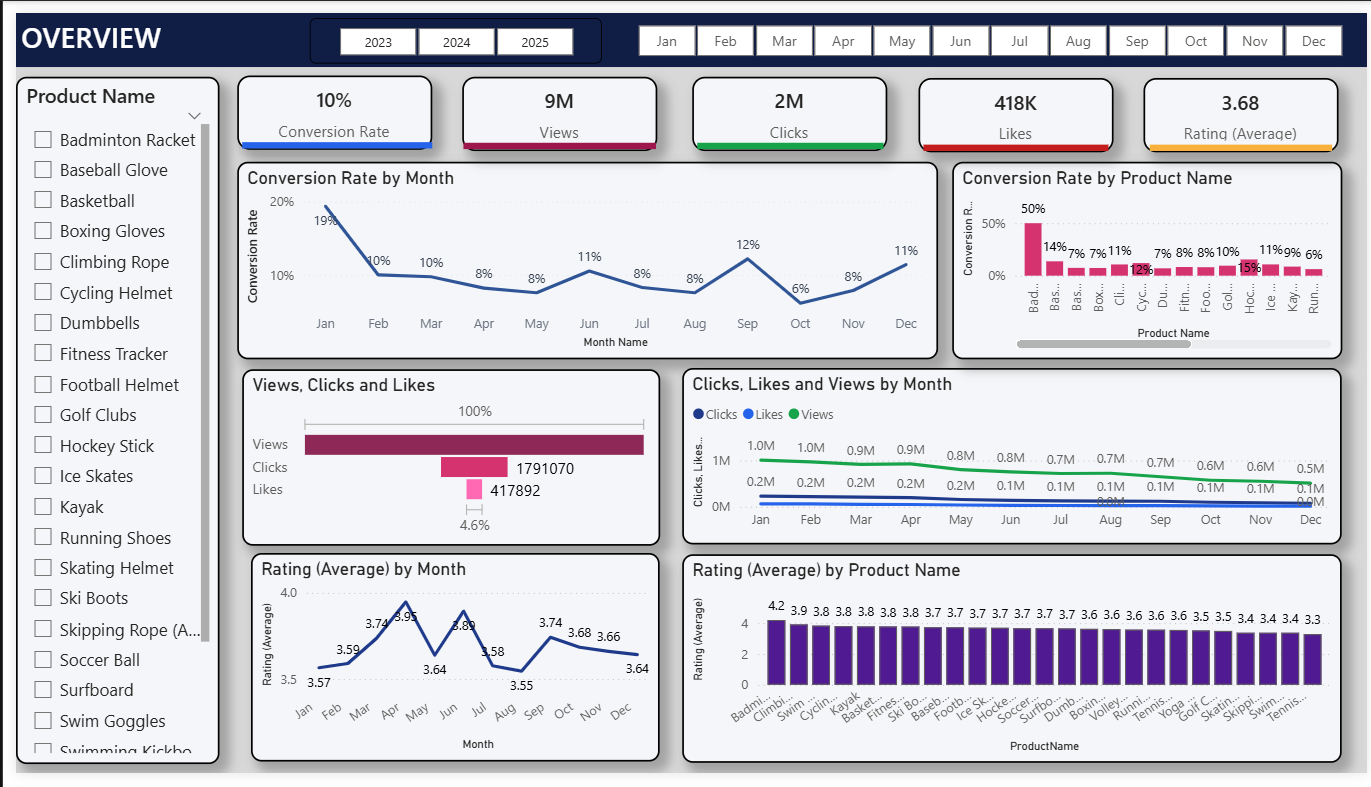

Layout of this report page (visuals, bound fields, positions):
{"tool":"powerbi","page":{"name":"OVERVIEW","canvas":[1280,720],"ordinal":0},"visuals":[{"type":"textbox","box":[0,0,1280,51],"z":0},{"type":"slicer","title":"Product Name","fields":{"Values":["products.ProductName"]},"box":[0,60.1,192.6,651.5],"z":1000},{"type":"card","fields":{"Values":["_Calculations.Conversion Rate"]},"box":[209.8,59.6,184.8,70.3],"z":2000},{"type":"slicer","fields":{"Values":["Calendar.Year"]},"box":[277.7,4.8,276.6,42.9],"z":3000},{"type":"slicer","fields":{"Values":["Calendar.MonthNameShort"]},"box":[563.2,4.9,716.6,42.9],"z":4000},{"type":"lineChart","title":"Conversion Rate by Month","fields":{"Y":["_Calculations.Conversion Rate"],"Category":["Calendar.MonthNameShort"]},"box":[209.8,140.7,664,187.1],"z":5000},{"type":"lineChart","title":"Clicks, Likes and Views by Month","fields":{"Category":["Calendar.MonthNameShort"],"Y":["_Calculations.Clicks","_Calculations.Likes","_Calculations.Views"]},"box":[631.8,336.2,624.6,166.9],"z":6000},{"type":"funnel","fields":{"Y":["_Calculations.Views","_Calculations.Clicks","_Calculations.Likes"]},"box":[214.6,337.3,395.8,166.9],"z":7000},{"type":"lineChart","title":"Rating (Average) by Month","fields":{"Y":["_Calculations.Rating (Average)"],"Category":["Calendar.MonthNameShort"]},"box":[222.9,511.4,387.4,197.9],"z":8000},{"type":"clusteredColumnChart","title":"Conversion Rate by Product Name","fields":{"Y":["_Calculations.Conversion Rate"],"Category":["dim_products.ProductName"]},"box":[886.9,140.7,369.5,187.1],"z":9000},{"type":"clusteredColumnChart","title":"Rating (Average) by Product Name","fields":{"Category":["dim_products.ProductName"],"Y":["_Calculations.Rating (Average)"]},"box":[631.8,512.6,624.6,197.9],"z":10000},{"type":"actionButton","box":[0,0,100,40],"z":11000},{"type":"card","fields":{"Values":["_Calculations.Views"]},"box":[423.2,60.8,184.8,70.3],"z":12000},{"type":"card","fields":{"Values":["_Calculations.Rating (Average)"]},"box":[1068.1,62,184.8,70.3],"z":13000},{"type":"card","fields":{"Values":["_Calculations.Likes"]},"box":[854.7,62,184.8,70.3],"z":14000},{"type":"card","fields":{"Values":["_Calculations.Clicks"]},"box":[640.1,60.8,184.8,70.3],"z":15000},{"type":"shape","box":[214.6,60.8,180,129.9],"z":16000},{"type":"shape","box":[424.4,62,182.4,128.7],"z":17000},{"type":"shape","box":[644.9,62,176.4,128.7],"z":18000},{"type":"shape","box":[859.5,66.8,175.2,122.8],"z":19000},{"type":"shape","box":[1074,66.8,172.8,122.8],"z":20000}]}

Visuals, with their boxes in screenshot pixels (x1, y1, x2, y2), scaled from the page's 1280x720 canvas onto the 1371x787 screenshot:
textbox: crop(0, 0, 1370, 56)
"Product Name" slicer: crop(0, 66, 206, 778)
card - _Calculations.Conversion Rate: crop(225, 65, 423, 142)
slicer - Calendar.Year: crop(297, 5, 594, 52)
slicer - Calendar.MonthNameShort: crop(603, 5, 1370, 52)
"Conversion Rate by Month" lineChart: crop(225, 154, 936, 358)
"Clicks, Likes and Views by Month" lineChart: crop(677, 367, 1346, 550)
funnel - _Calculations.Views x _Calculations.Clicks: crop(230, 369, 654, 551)
"Rating (Average) by Month" lineChart: crop(239, 559, 654, 775)
"Conversion Rate by Product Name" clusteredColumnChart: crop(950, 154, 1346, 358)
"Rating (Average) by Product Name" clusteredColumnChart: crop(677, 560, 1346, 777)
actionButton: crop(0, 0, 107, 44)
card - _Calculations.Views: crop(453, 66, 651, 143)
card - _Calculations.Rating (Average): crop(1144, 68, 1342, 145)
card - _Calculations.Likes: crop(915, 68, 1113, 145)
card - _Calculations.Clicks: crop(686, 66, 884, 143)
shape: crop(230, 66, 423, 208)
shape: crop(455, 68, 650, 208)
shape: crop(691, 68, 880, 208)
shape: crop(921, 73, 1108, 207)
shape: crop(1150, 73, 1335, 207)
